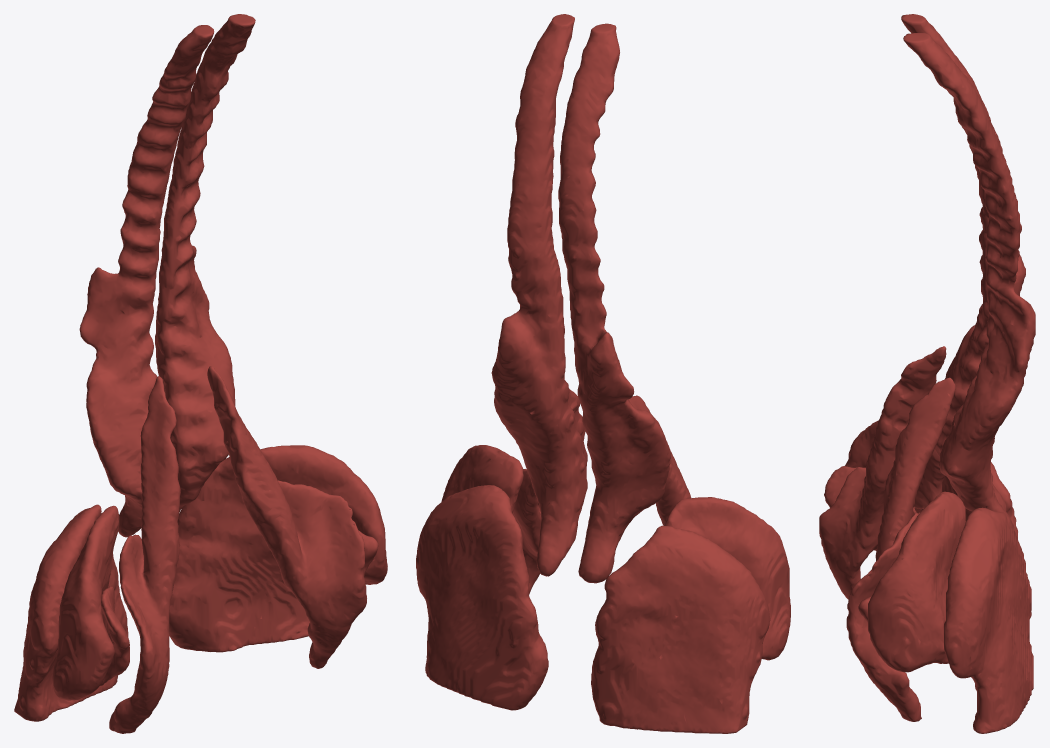
The model's file is tsd_s0196_older_adult_female.muscular.LOD1.glb.
The picture shows the model from 3 angles, left to right: view 1: azimuth 30°, elevation 25°; view 2: azimuth 150°, elevation 25°; view 3: azimuth 270°, elevation 25°; orthographic projection. The views are drawn at different scales.
Parts seen in each view (by area): view 1: TSD_S0196.OLDER_ADULT.FEMALE.MUSCULAR.ERECTOR_SPINAE_AUTOCHT (×2), TSD_S0196.OLDER_ADULT.FEMALE.MUSCULAR.GLUTEUS_MAXIMUS.L, TSD_S0196.OLDER_ADULT.FEMALE.MUSCULAR.ILIOPSOAS.L, TSD_S0196.OLDER_ADULT.FEMALE.MUSCULAR.ILIOPSOAS.R, TSD_S0196.OLDER_ADULT.FEMALE.MUSCULAR.GLUTEUS_MAXIMUS.R, TSD_S0196.OLDER_ADULT.FEMALE.MUSCULAR.GLUTEUS_MEDIUS.R, TSD_S0196.OLDER_ADULT.FEMALE.MUSCULAR.GLUTEUS_MEDIUS.L, TSD_S0196.OLDER_ADULT.FEMALE.MUSCULAR.GLUTEUS_MINIMUS.R; view 2: TSD_S0196.OLDER_ADULT.FEMALE.MUSCULAR.ERECTOR_SPINAE_AUTOCHT (×2), TSD_S0196.OLDER_ADULT.FEMALE.MUSCULAR.GLUTEUS_MAXIMUS.R, TSD_S0196.OLDER_ADULT.FEMALE.MUSCULAR.GLUTEUS_MAXIMUS.L, TSD_S0196.OLDER_ADULT.FEMALE.MUSCULAR.GLUTEUS_MEDIUS.R, TSD_S0196.OLDER_ADULT.FEMALE.MUSCULAR.GLUTEUS_MEDIUS.L, TSD_S0196.OLDER_ADULT.FEMALE.MUSCULAR.ILIOPSOAS.L, TSD_S0196.OLDER_ADULT.FEMALE.MUSCULAR.ILIOPSOAS.R; view 3: TSD_S0196.OLDER_ADULT.FEMALE.MUSCULAR.ERECTOR_SPINAE_AUTOCHT (×2), TSD_S0196.OLDER_ADULT.FEMALE.MUSCULAR.GLUTEUS_MAXIMUS.L, TSD_S0196.OLDER_ADULT.FEMALE.MUSCULAR.GLUTEUS_MEDIUS.L, TSD_S0196.OLDER_ADULT.FEMALE.MUSCULAR.ILIOPSOAS.L, TSD_S0196.OLDER_ADULT.FEMALE.MUSCULAR.ILIOPSOAS.R, TSD_S0196.OLDER_ADULT.FEMALE.MUSCULAR.GLUTEUS_MEDIUS.R, TSD_S0196.OLDER_ADULT.FEMALE.MUSCULAR.GLUTEUS_MAXIMUS.R, TSD_S0196.OLDER_ADULT.FEMALE.MUSCULAR.GLUTEUS_MINIMUS.R.
Boxes of the visible parts, x1=… form: TSD_S0196.OLDER_ADULT.FEMALE.MUSCULAR.ERECTOR_SPINAE_AUTOCHT (×2): x1=79, y1=14, x2=255, y2=537; TSD_S0196.OLDER_ADULT.FEMALE.MUSCULAR.GLUTEUS_MAXIMUS.L: x1=169, y1=457, x2=309, y2=652; TSD_S0196.OLDER_ADULT.FEMALE.MUSCULAR.ILIOPSOAS.L: x1=207, y1=366, x2=366, y2=668; TSD_S0196.OLDER_ADULT.FEMALE.MUSCULAR.ILIOPSOAS.R: x1=109, y1=376, x2=180, y2=733; TSD_S0196.OLDER_ADULT.FEMALE.MUSCULAR.GLUTEUS_MAXIMUS.R: x1=14, y1=504, x2=128, y2=721; TSD_S0196.OLDER_ADULT.FEMALE.MUSCULAR.GLUTEUS_MEDIUS.R: x1=52, y1=505, x2=119, y2=700; TSD_S0196.OLDER_ADULT.FEMALE.MUSCULAR.GLUTEUS_MEDIUS.L: x1=260, y1=445, x2=387, y2=584; TSD_S0196.OLDER_ADULT.FEMALE.MUSCULAR.GLUTEUS_MINIMUS.R: x1=100, y1=586, x2=129, y2=685; TSD_S0196.OLDER_ADULT.FEMALE.MUSCULAR.ERECTOR_SPINAE_AUTOCHT (×2): x1=491, y1=14, x2=670, y2=583; TSD_S0196.OLDER_ADULT.FEMALE.MUSCULAR.GLUTEUS_MAXIMUS.R: x1=591, y1=525, x2=770, y2=733; TSD_S0196.OLDER_ADULT.FEMALE.MUSCULAR.GLUTEUS_MAXIMUS.L: x1=416, y1=485, x2=548, y2=710; TSD_S0196.OLDER_ADULT.FEMALE.MUSCULAR.GLUTEUS_MEDIUS.R: x1=664, y1=497, x2=790, y2=660; TSD_S0196.OLDER_ADULT.FEMALE.MUSCULAR.GLUTEUS_MEDIUS.L: x1=441, y1=445, x2=523, y2=512; TSD_S0196.OLDER_ADULT.FEMALE.MUSCULAR.ILIOPSOAS.L: x1=512, y1=383, x2=587, y2=594; TSD_S0196.OLDER_ADULT.FEMALE.MUSCULAR.ILIOPSOAS.R: x1=629, y1=395, x2=691, y2=525; TSD_S0196.OLDER_ADULT.FEMALE.MUSCULAR.ERECTOR_SPINAE_AUTOCHT (×2): x1=901, y1=14, x2=1035, y2=528; TSD_S0196.OLDER_ADULT.FEMALE.MUSCULAR.GLUTEUS_MAXIMUS.L: x1=944, y1=507, x2=1033, y2=733; TSD_S0196.OLDER_ADULT.FEMALE.MUSCULAR.GLUTEUS_MEDIUS.L: x1=868, y1=491, x2=965, y2=672; TSD_S0196.OLDER_ADULT.FEMALE.MUSCULAR.ILIOPSOAS.L: x1=846, y1=377, x2=955, y2=721; TSD_S0196.OLDER_ADULT.FEMALE.MUSCULAR.ILIOPSOAS.R: x1=819, y1=346, x2=946, y2=599; TSD_S0196.OLDER_ADULT.FEMALE.MUSCULAR.GLUTEUS_MEDIUS.R: x1=845, y1=420, x2=944, y2=550; TSD_S0196.OLDER_ADULT.FEMALE.MUSCULAR.GLUTEUS_MAXIMUS.R: x1=914, y1=462, x2=1017, y2=538; TSD_S0196.OLDER_ADULT.FEMALE.MUSCULAR.GLUTEUS_MINIMUS.R: x1=824, y1=466, x2=916, y2=550.
Bounding box in the file's own units: 0.2944 × 0.5508 × 0.1668.
